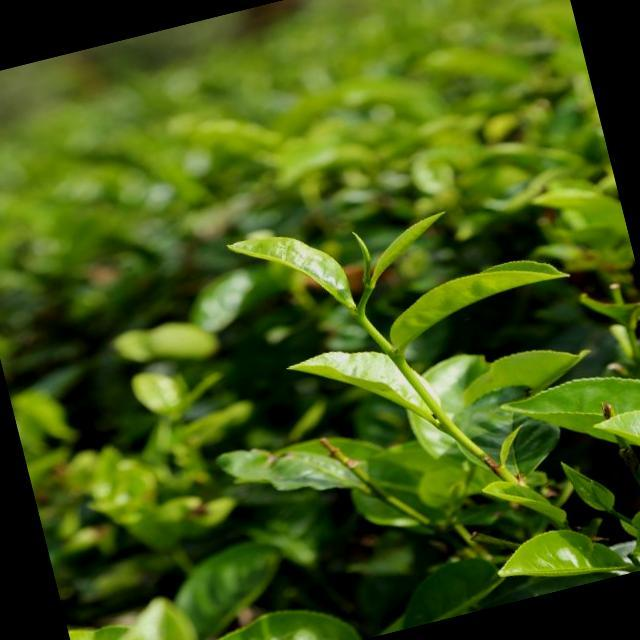Stem: (358, 318, 371, 329)
